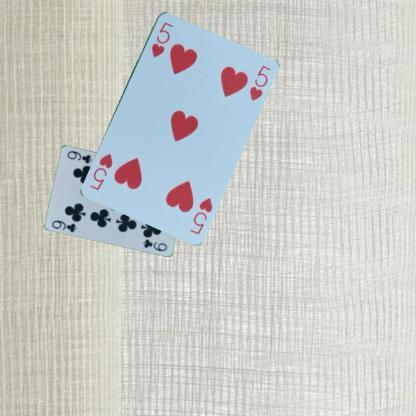5h: (187, 195, 214, 236), (148, 18, 174, 58)
9c: (50, 218, 78, 234)
